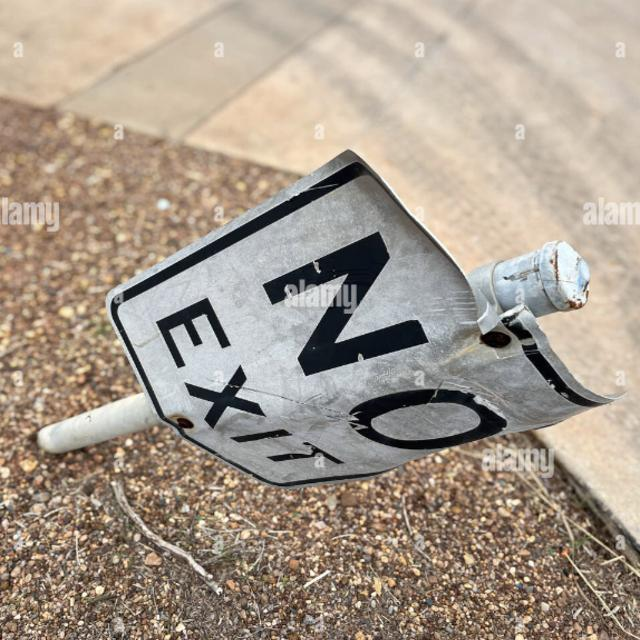Inclined Pole: (24, 147, 638, 502)
